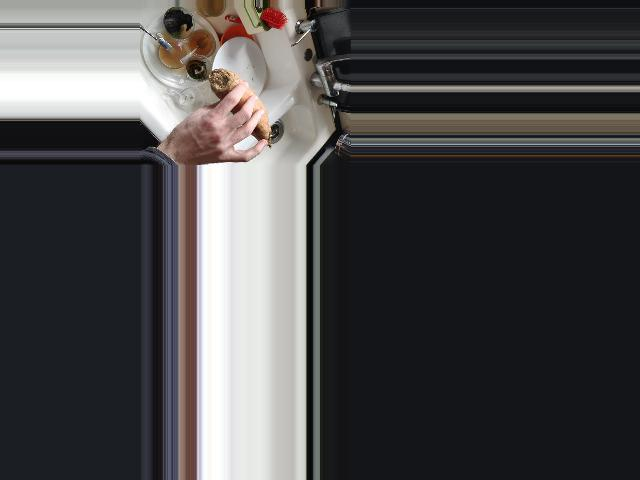sweet_potato: (209, 71, 271, 149)
